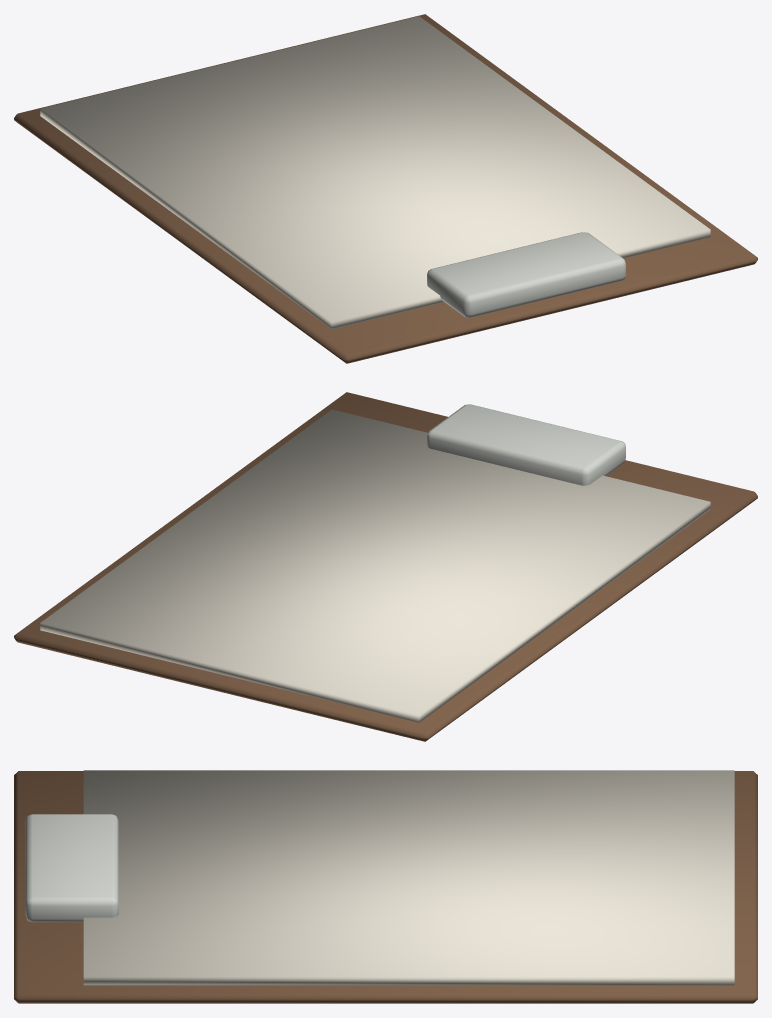
File: clipboard.glb
The picture shows the model from 3 angles, top to bottom: view 1: azimuth 30°, elevation 25°; view 2: azimuth 150°, elevation 25°; view 3: azimuth 270°, elevation 25°; orthographic projection. The views are drawn at different scales.
Parts seen in each view (by area): view 1: clipboard; view 2: clipboard; view 3: clipboard.
Boxes of the visible parts, x1=… form: clipboard: x1=14, y1=14, x2=757, y2=363; clipboard: x1=14, y1=392, x2=757, y2=741; clipboard: x1=14, y1=770, x2=757, y2=1003.
Size of the model in its own units: 0.23 by 0.0175 by 0.32.
